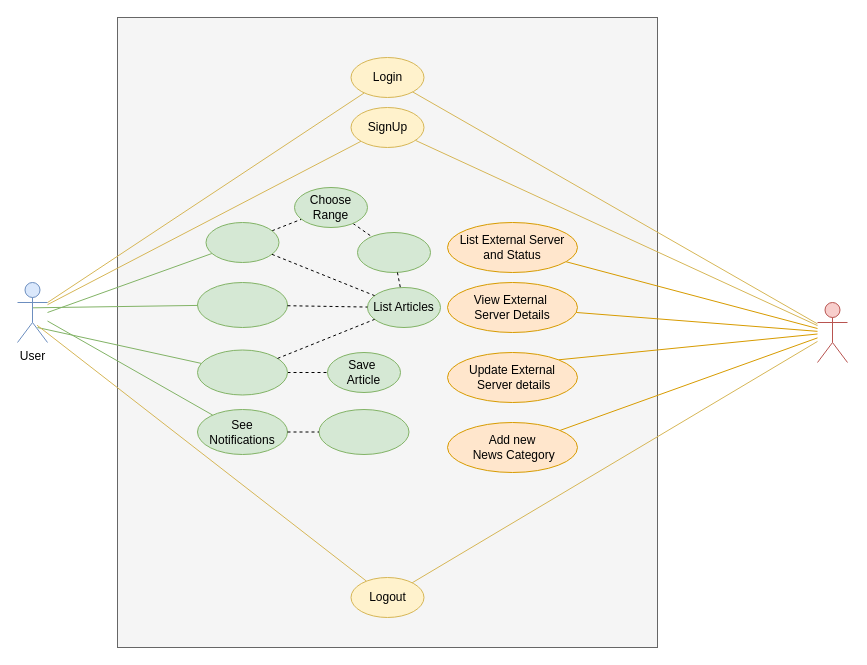
This 867x665 diagram has some shape labels left out. The centre of each missing label's shape, as x and y in pixels:
"Add Keyword" belongs at point (363, 431).
"Admin" belongs at point (832, 332).
"Choose Category" belongs at point (393, 252).
"Search Articles" belongs at point (242, 372).
"View Headlines" belongs at point (242, 242).
"View Saved Articles" belongs at point (242, 305).
